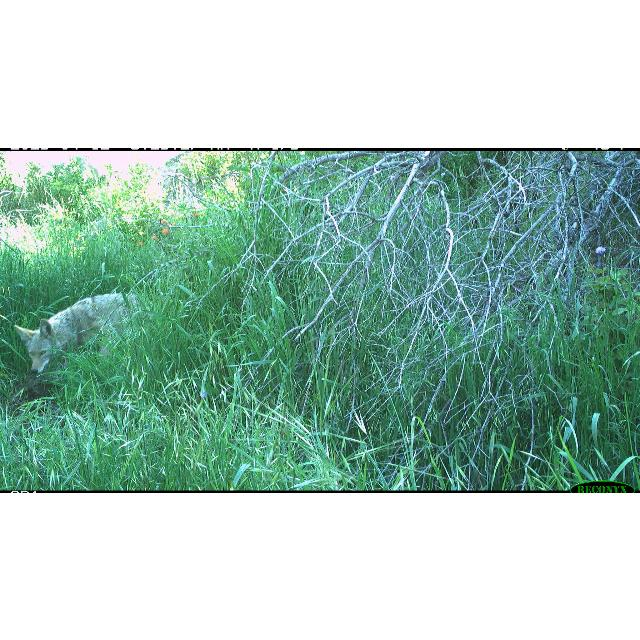animals: (13, 292, 151, 374)
